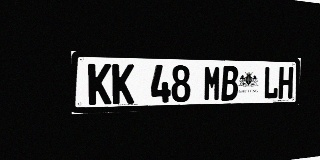4: (151, 64, 171, 103)
8: (171, 65, 191, 102)
B: (221, 66, 238, 101)
H: (278, 67, 293, 99)
K: (88, 63, 111, 105), (112, 64, 134, 104)
L: (263, 66, 279, 99)
M: (203, 65, 221, 101)
